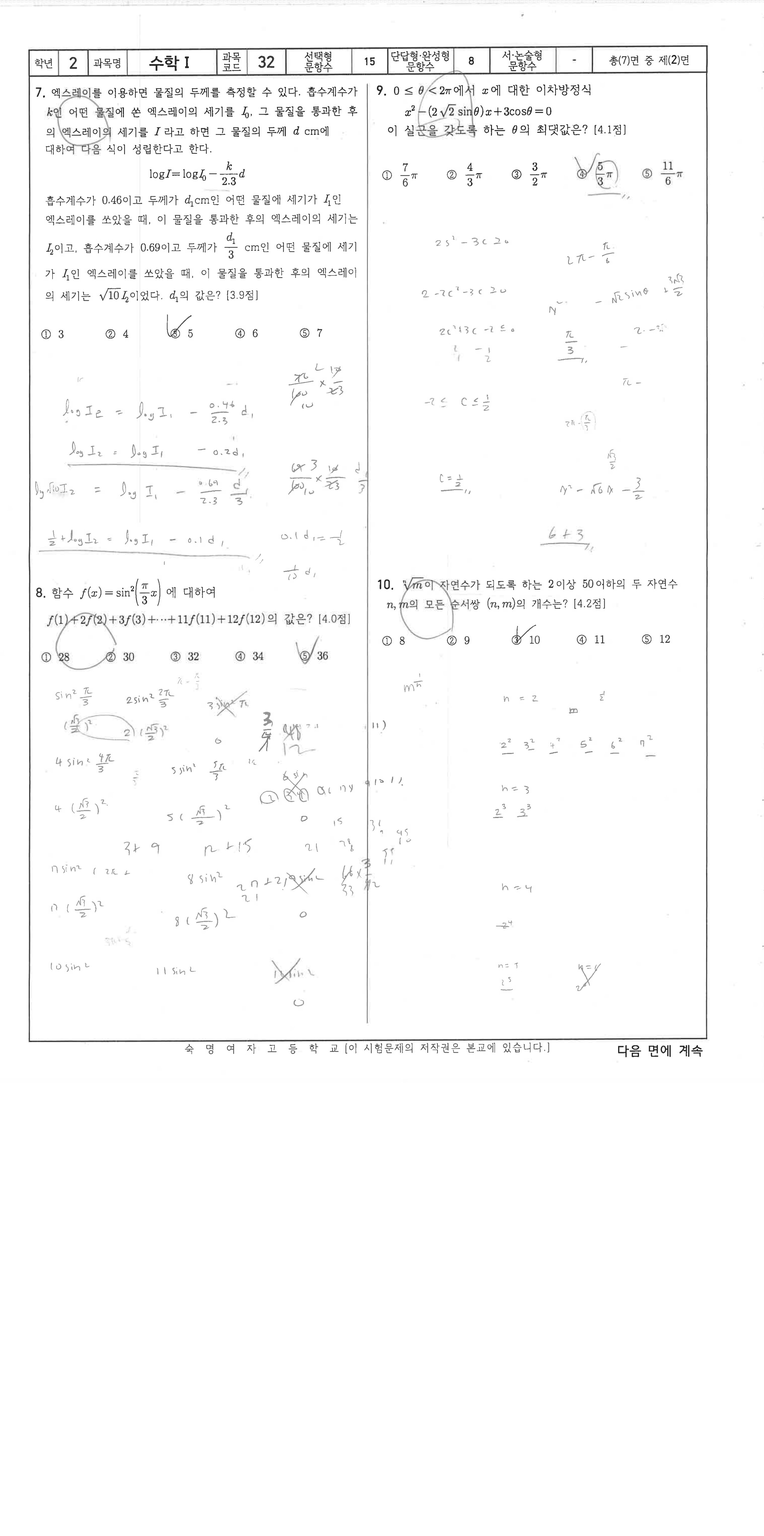problem: (33, 82, 363, 348), (371, 79, 700, 194), (34, 573, 357, 681), (372, 563, 693, 652)
